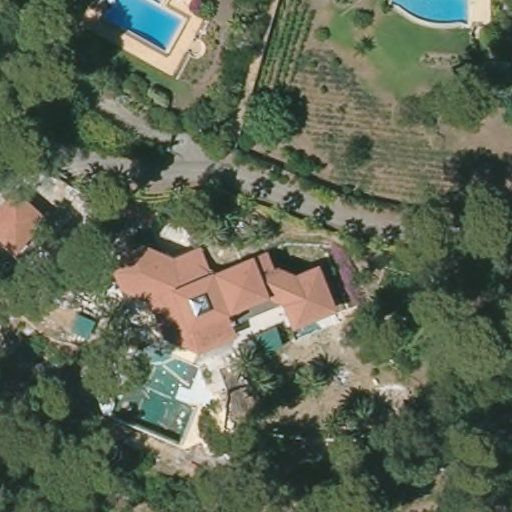pool: (97, 1, 187, 53), (388, 1, 479, 32)
